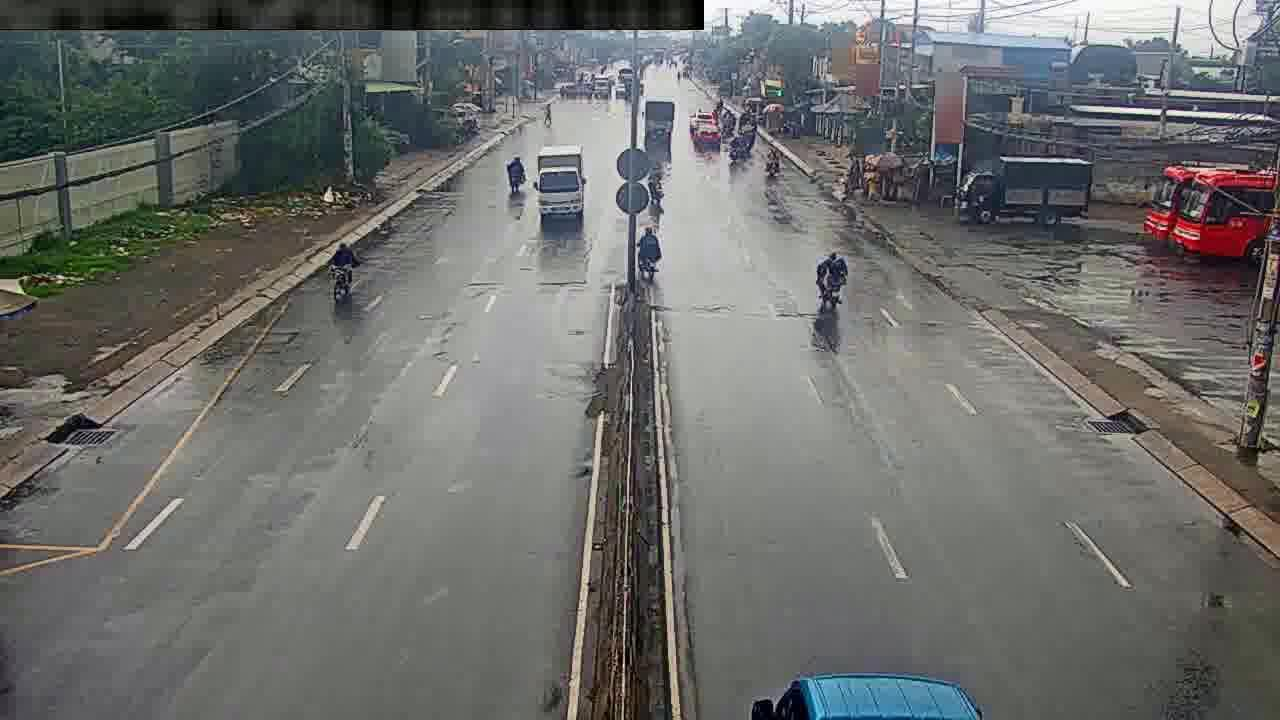8: (531, 146, 591, 216), (637, 98, 673, 146)
motorbike: (331, 239, 358, 306), (819, 241, 846, 308), (634, 222, 664, 279), (764, 140, 781, 182), (506, 152, 522, 195), (736, 125, 752, 163)
